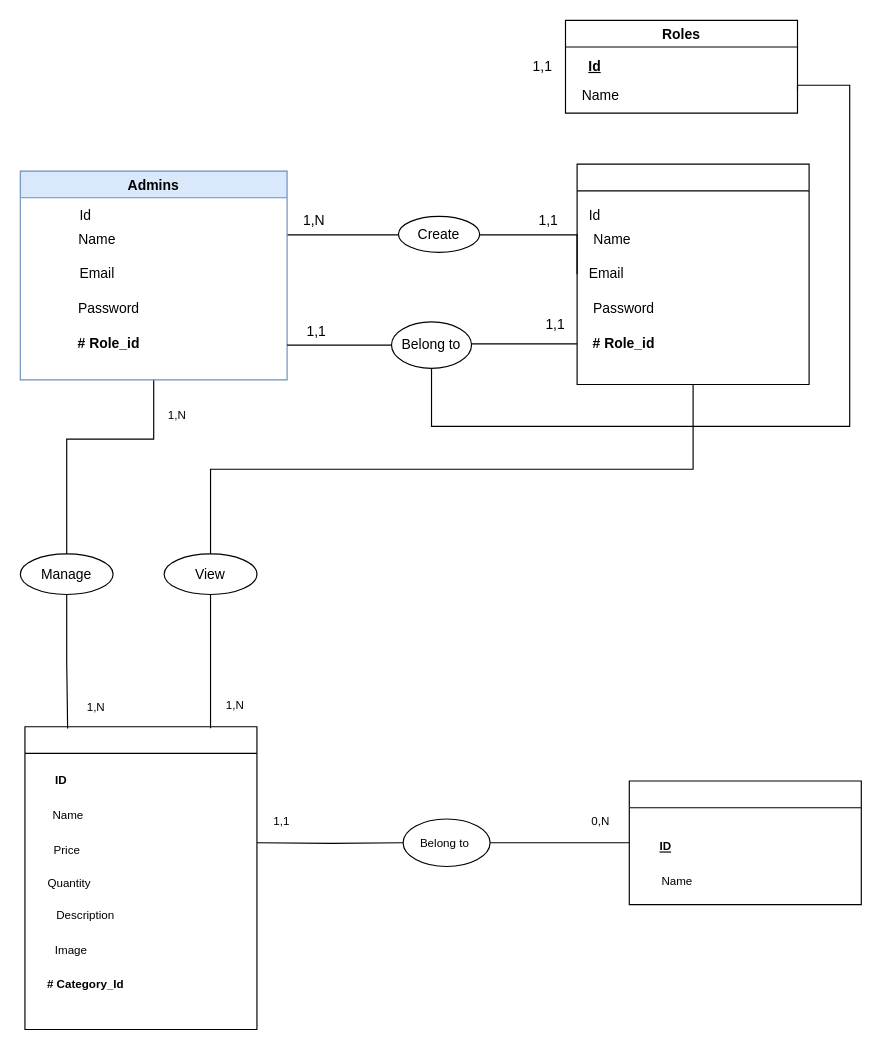
The diagram is 882 pixels wide and 1050 high, and some of its shapes have lost their labels. Here are the shapes that lost their labels. From the top down, the box of each, then its label:
(576, 163, 809, 385): Users
(628, 780, 861, 905): Category
(24, 726, 257, 1030): Instruments
